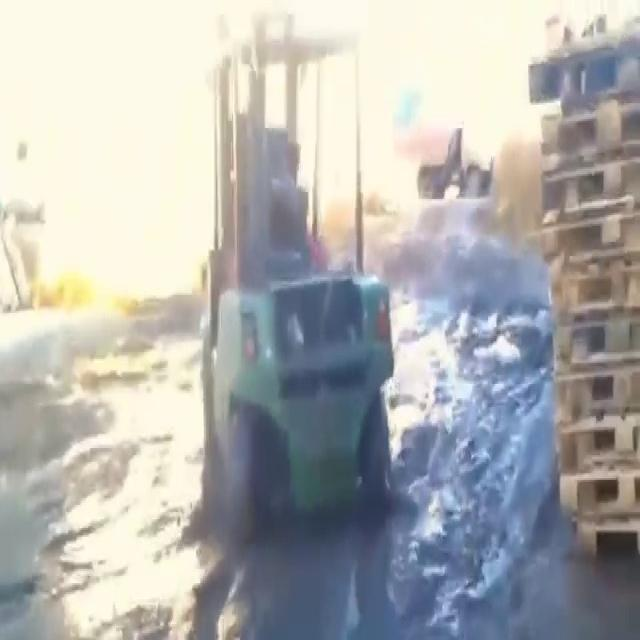forklift: (193, 13, 403, 520)
